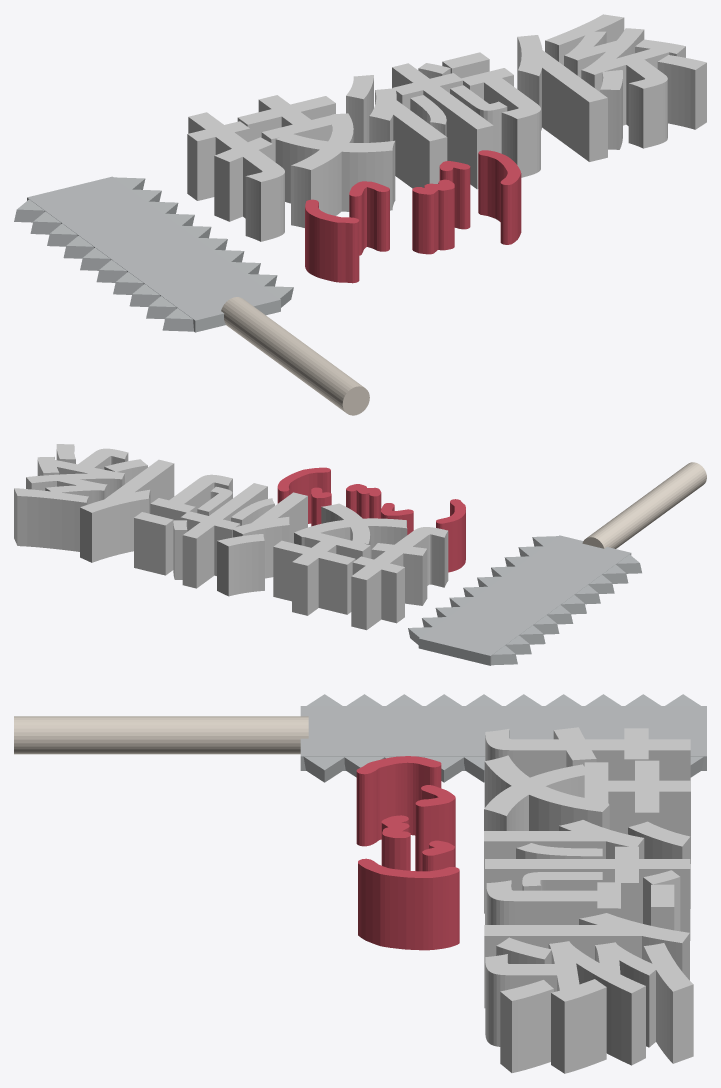
File: technology.glb
The picture shows the model from 3 angles, top to bottom: view 1: azimuth 30°, elevation 25°; view 2: azimuth 150°, elevation 25°; view 3: azimuth 270°, elevation 25°; orthographic projection. The views are drawn at different scales.
Parts seen in each view (by area): view 1: Mesh_Mesh_head_geo.001_lambert2SG.001; view 2: Mesh_Mesh_head_geo.001_lambert2SG.001; view 3: Mesh_Mesh_head_geo.001_lambert2SG.001.
Boxes of the visible parts, x1,y1,x2,y2 form: Mesh_Mesh_head_geo.001_lambert2SG.001: (14,14,706,415); Mesh_Mesh_head_geo.001_lambert2SG.001: (14,444,706,665); Mesh_Mesh_head_geo.001_lambert2SG.001: (14,694,706,1073).
Size of the model in its own units: 109 by 12 by 87.
